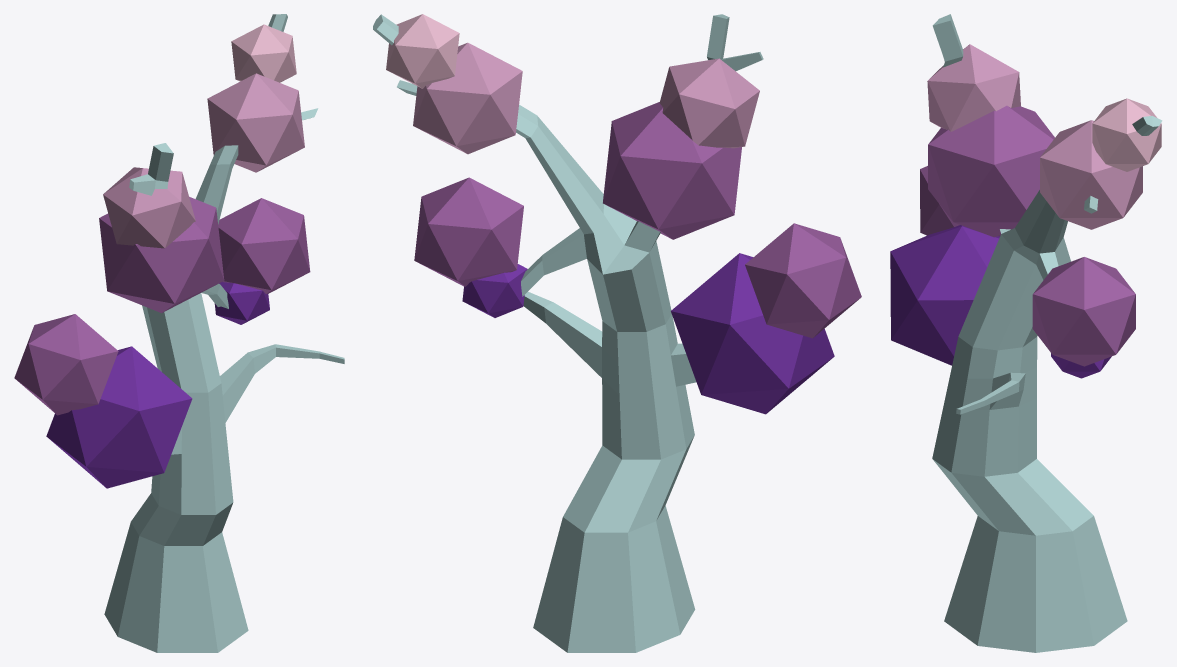
The model's file is 01_04Tree_Purple.fbx.
3 views of the same model, side by side, from view 1: azimuth 30°, elevation 25°; view 2: azimuth 150°, elevation 25°; view 3: azimuth 270°, elevation 25° (orthographic). The views are drawn at different scales.
Parts seen in each view (by area): view 1: Cube.014; view 2: Cube.014; view 3: Cube.014.
Boxes of the visible parts, <box> form: Cube.014: <box>14,14,344,652</box>; Cube.014: <box>373,14,861,652</box>; Cube.014: <box>890,14,1162,652</box>.
Bounding box in the file's own units: 168 × 251 × 104.
